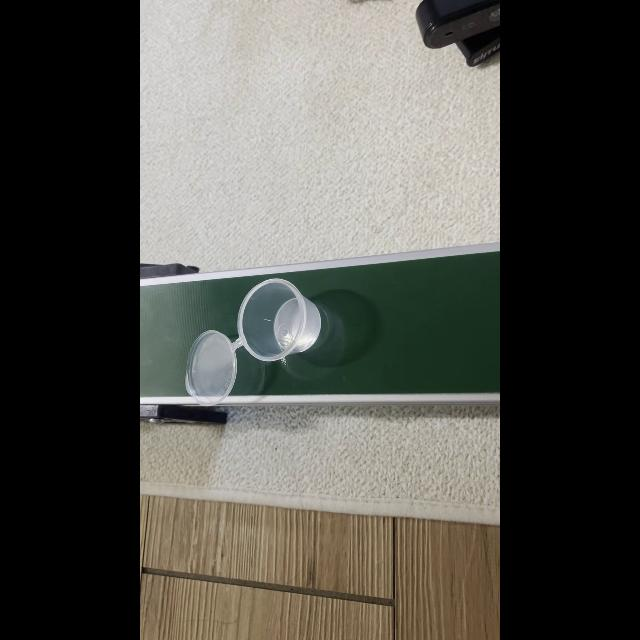clean: (186, 278, 320, 406)
